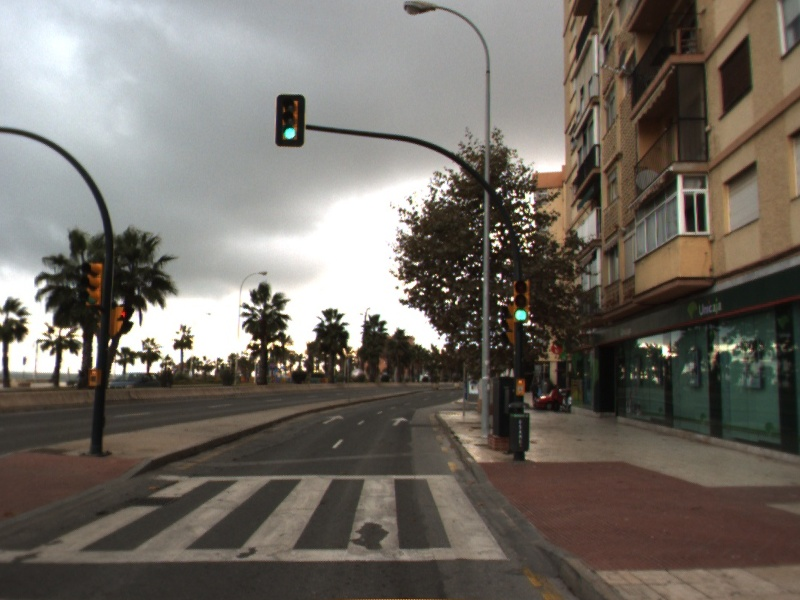STRAIGHT: (321, 414, 345, 425), (390, 416, 410, 427)
